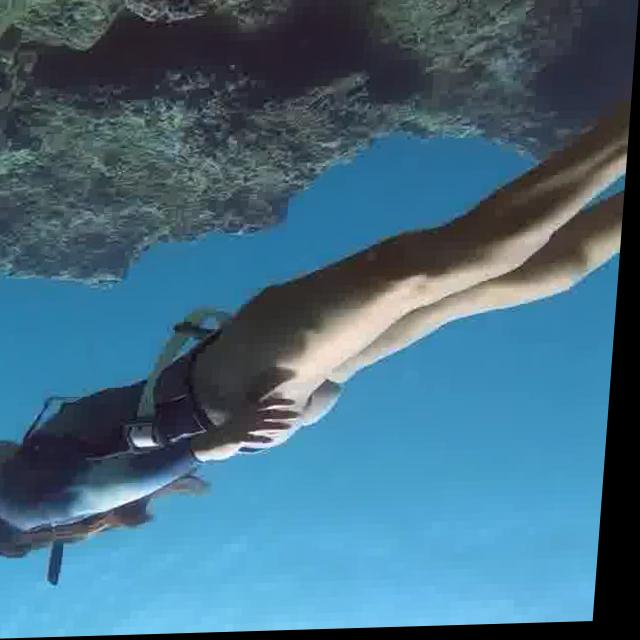human: (0, 0, 640, 600)
